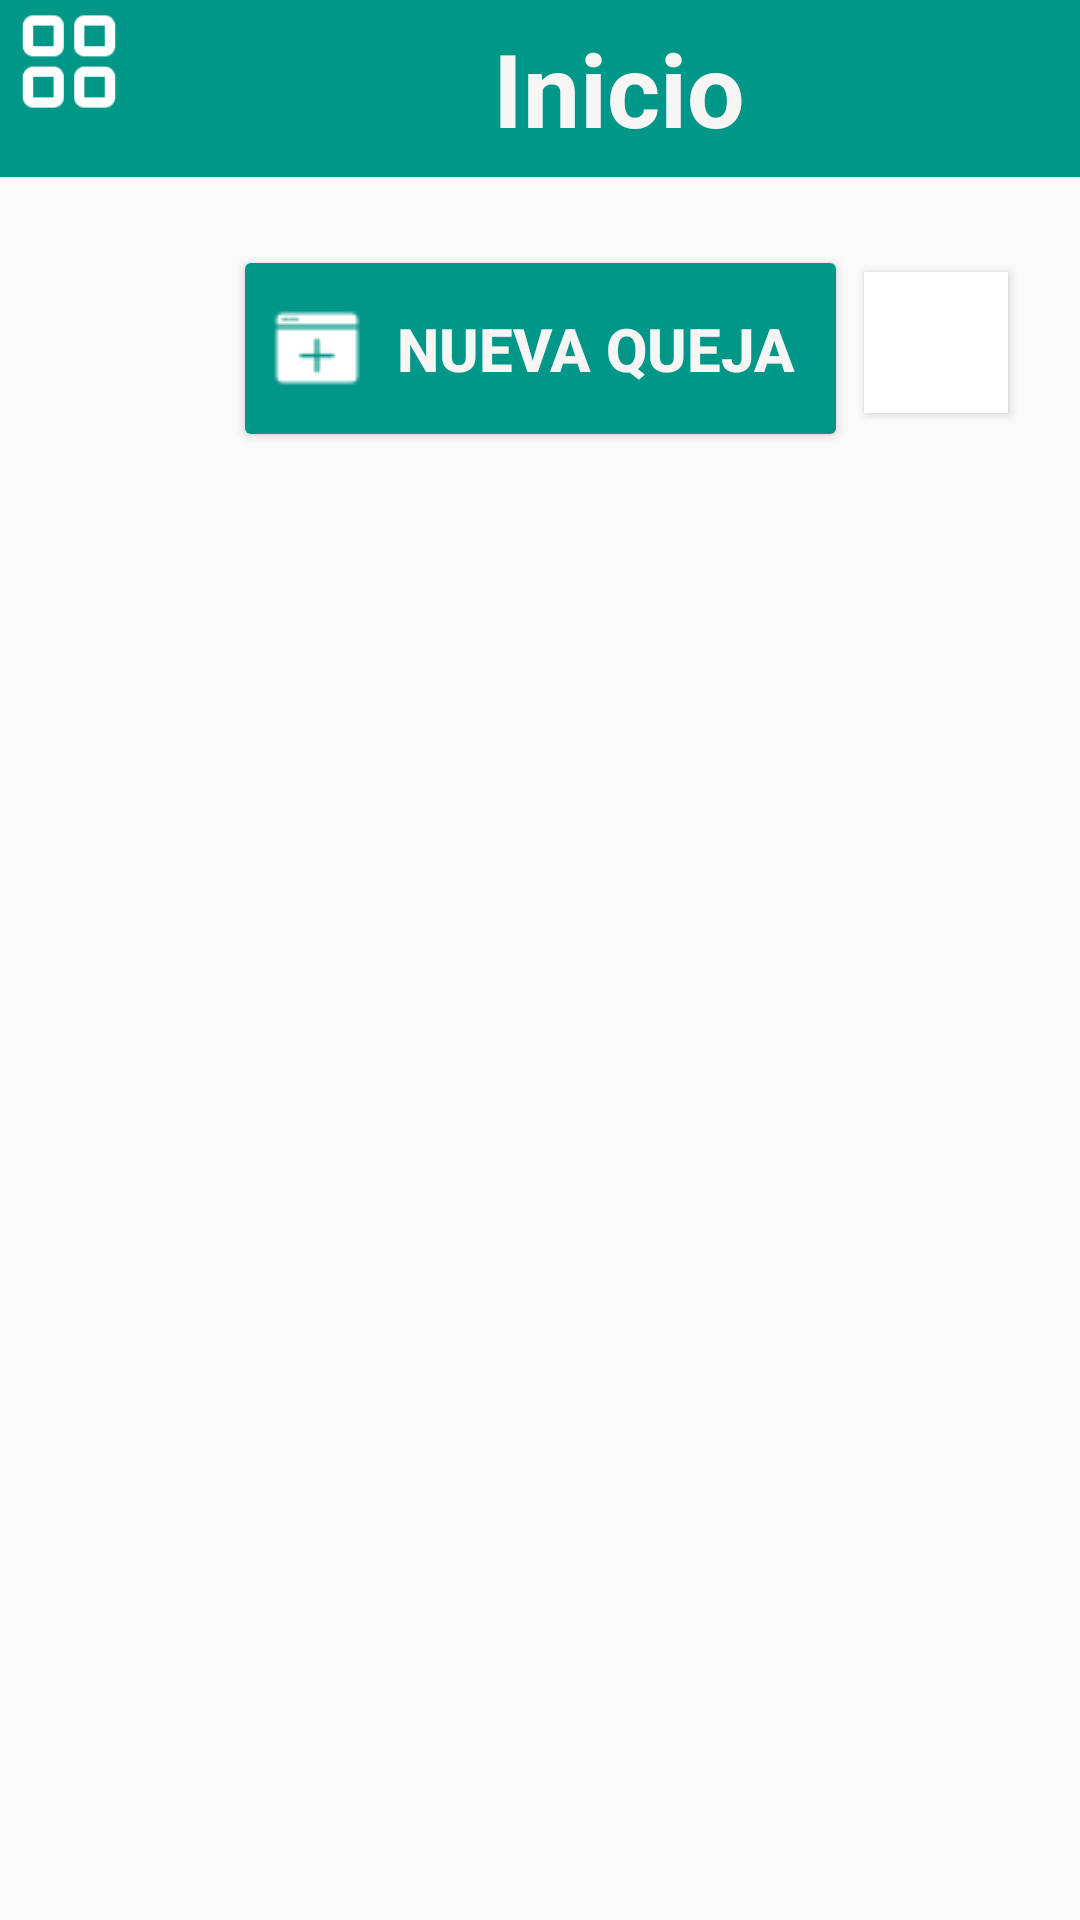

Icon bounding boxes for this 1080 × 1920 phone screenshot, format (x1=x1, y1=y1, x2=x2, y2=y2):
cuadrado: (x1=22, y1=15, x2=116, y2=108)
